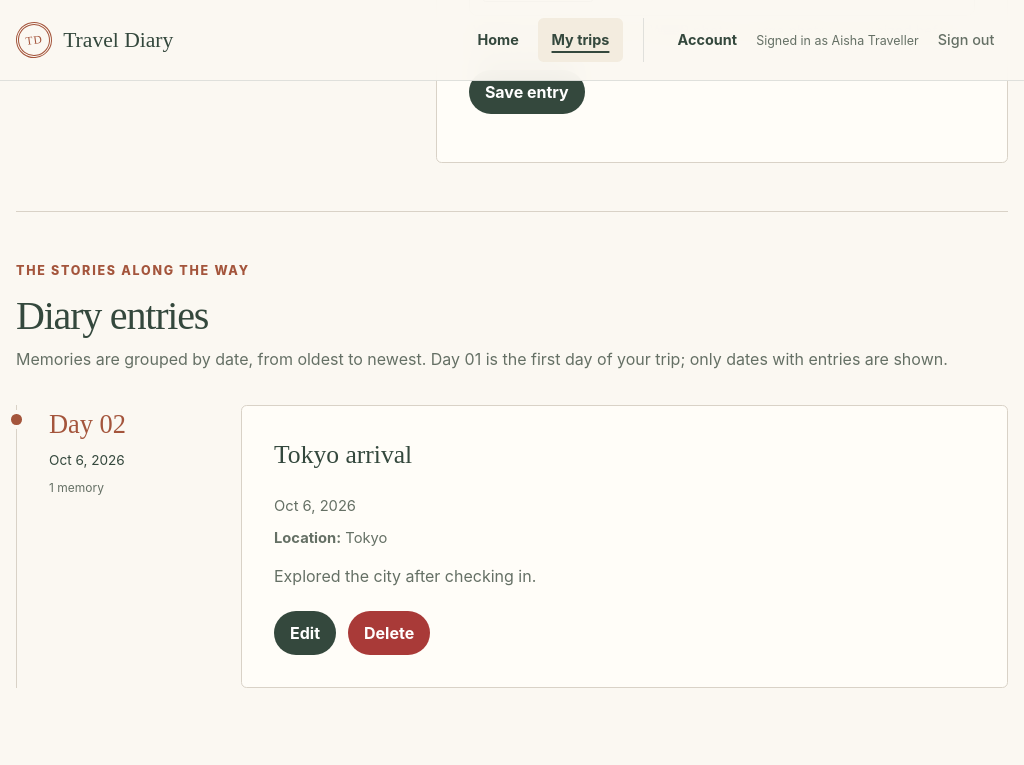
Test: TripDetails owner actions › moves a dated entry into its new group after editing
(page scrolled)
Click the button "Edit" at (305, 633), box [274,611,336,655]
(page scrolled)
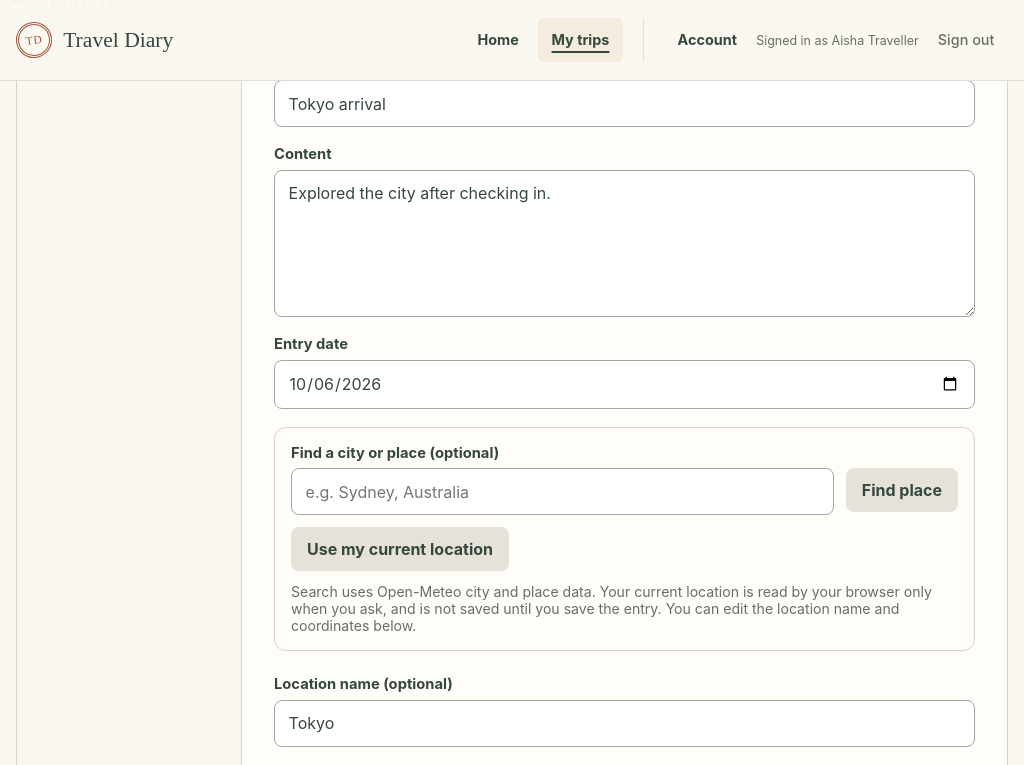
Type "2026-10-08" into the date field labelled "Entry date" at (624, 384), box [274,360,975,408]
(page scrolled)
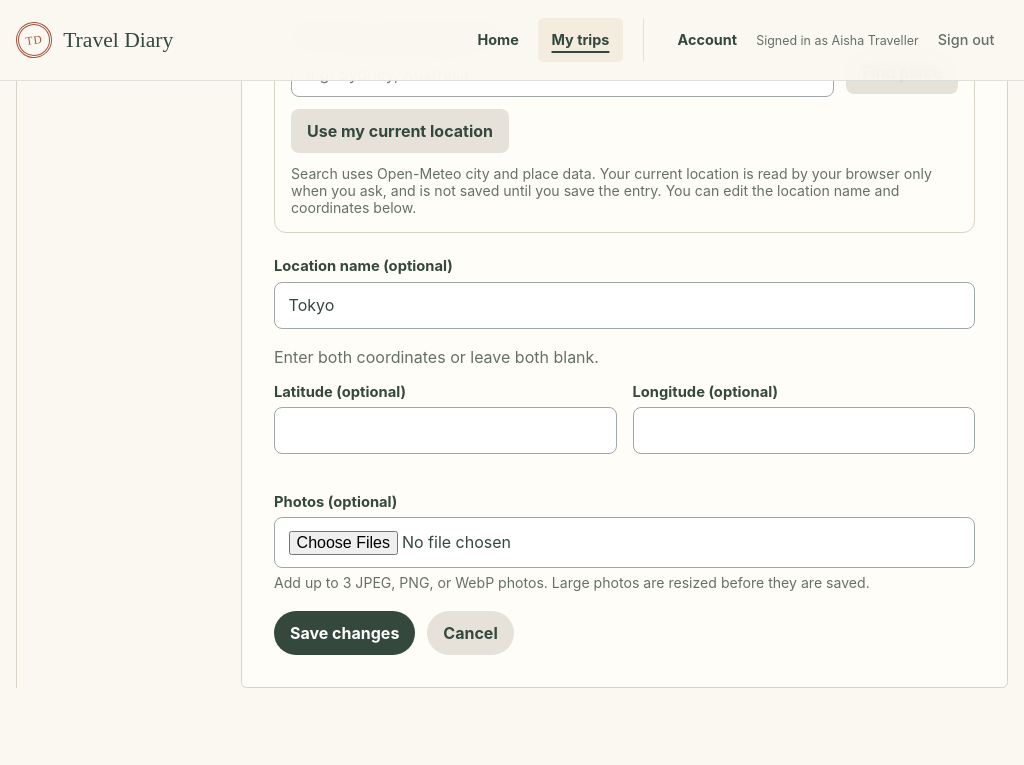
Click the button "Save changes" at (345, 633), box [274,611,415,655]
(page scrolled)
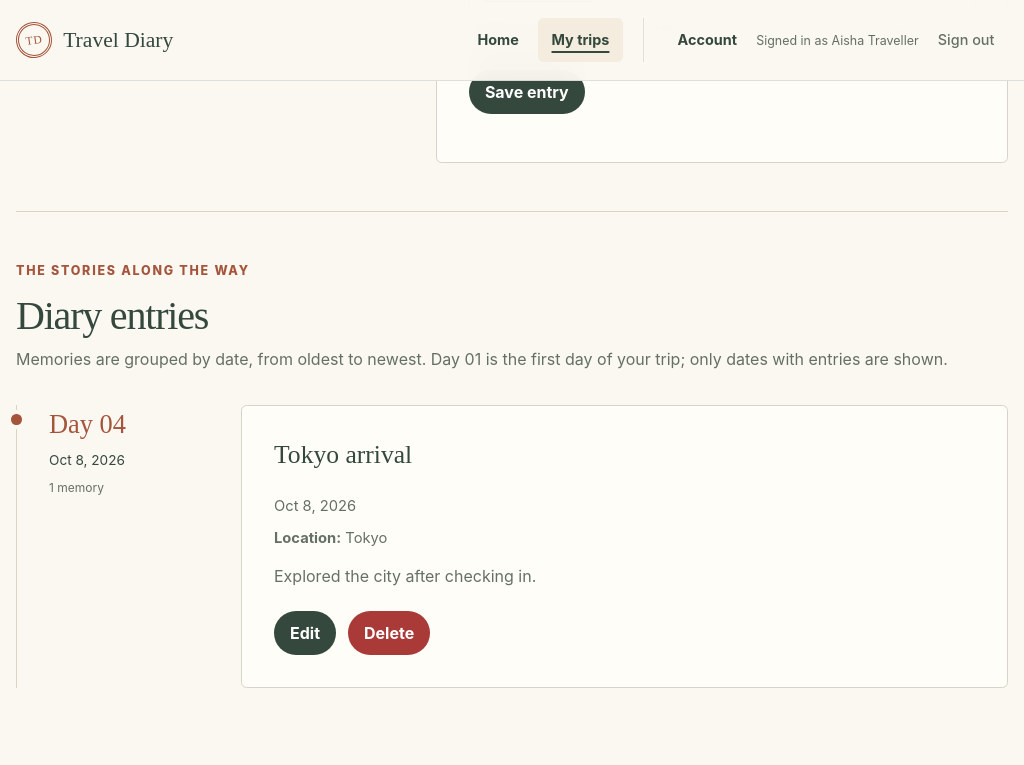
Expected: the text "Day 04" is shown, [49,409,126,439]
